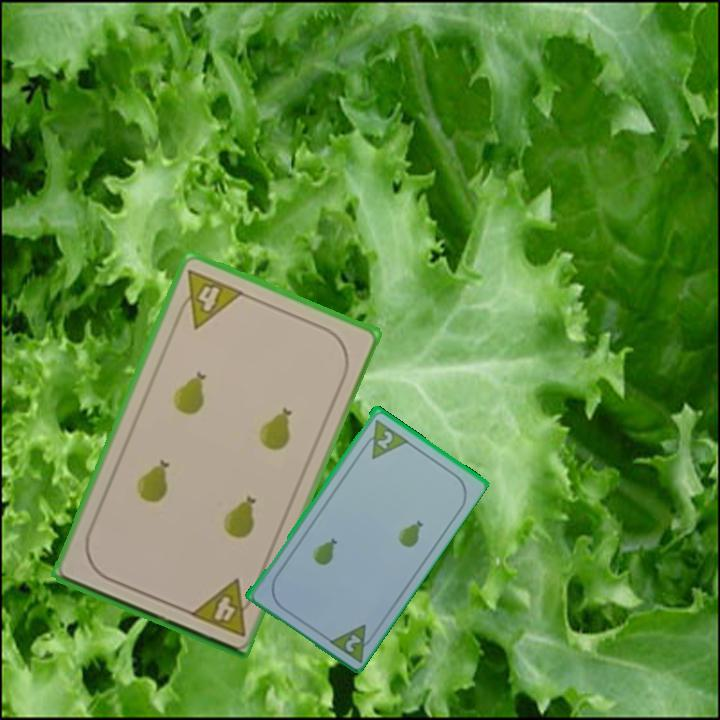2p: (324, 620, 380, 665), (373, 427, 396, 451)
4p: (171, 265, 247, 332), (185, 575, 260, 639)
